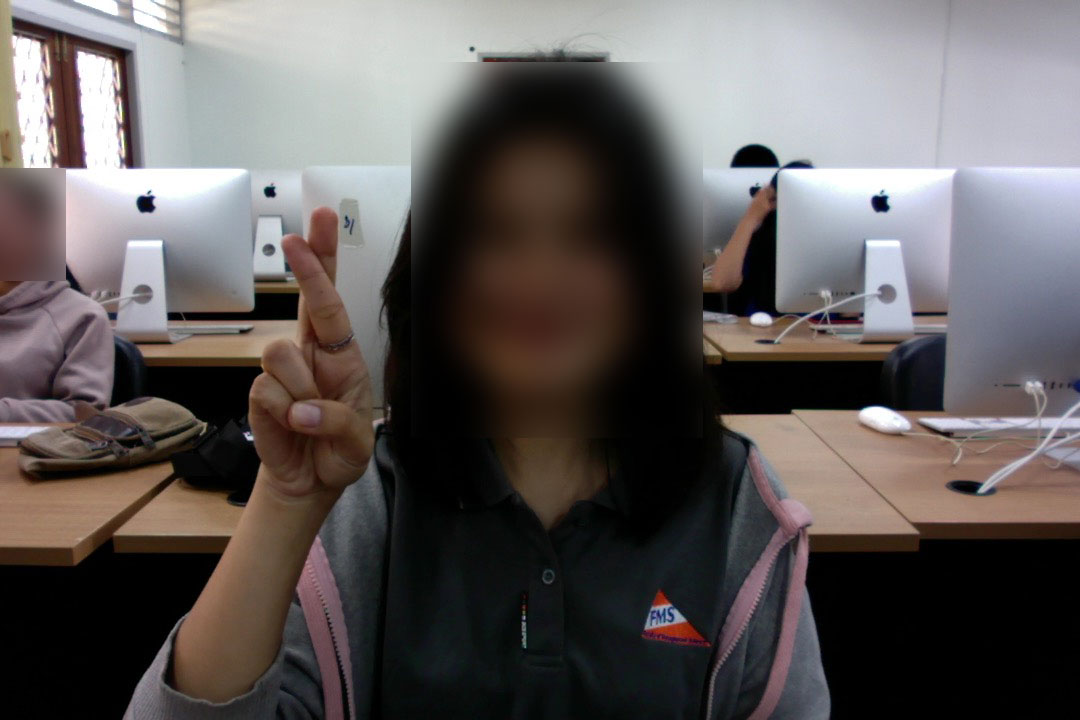rao: (250, 202, 385, 508)
